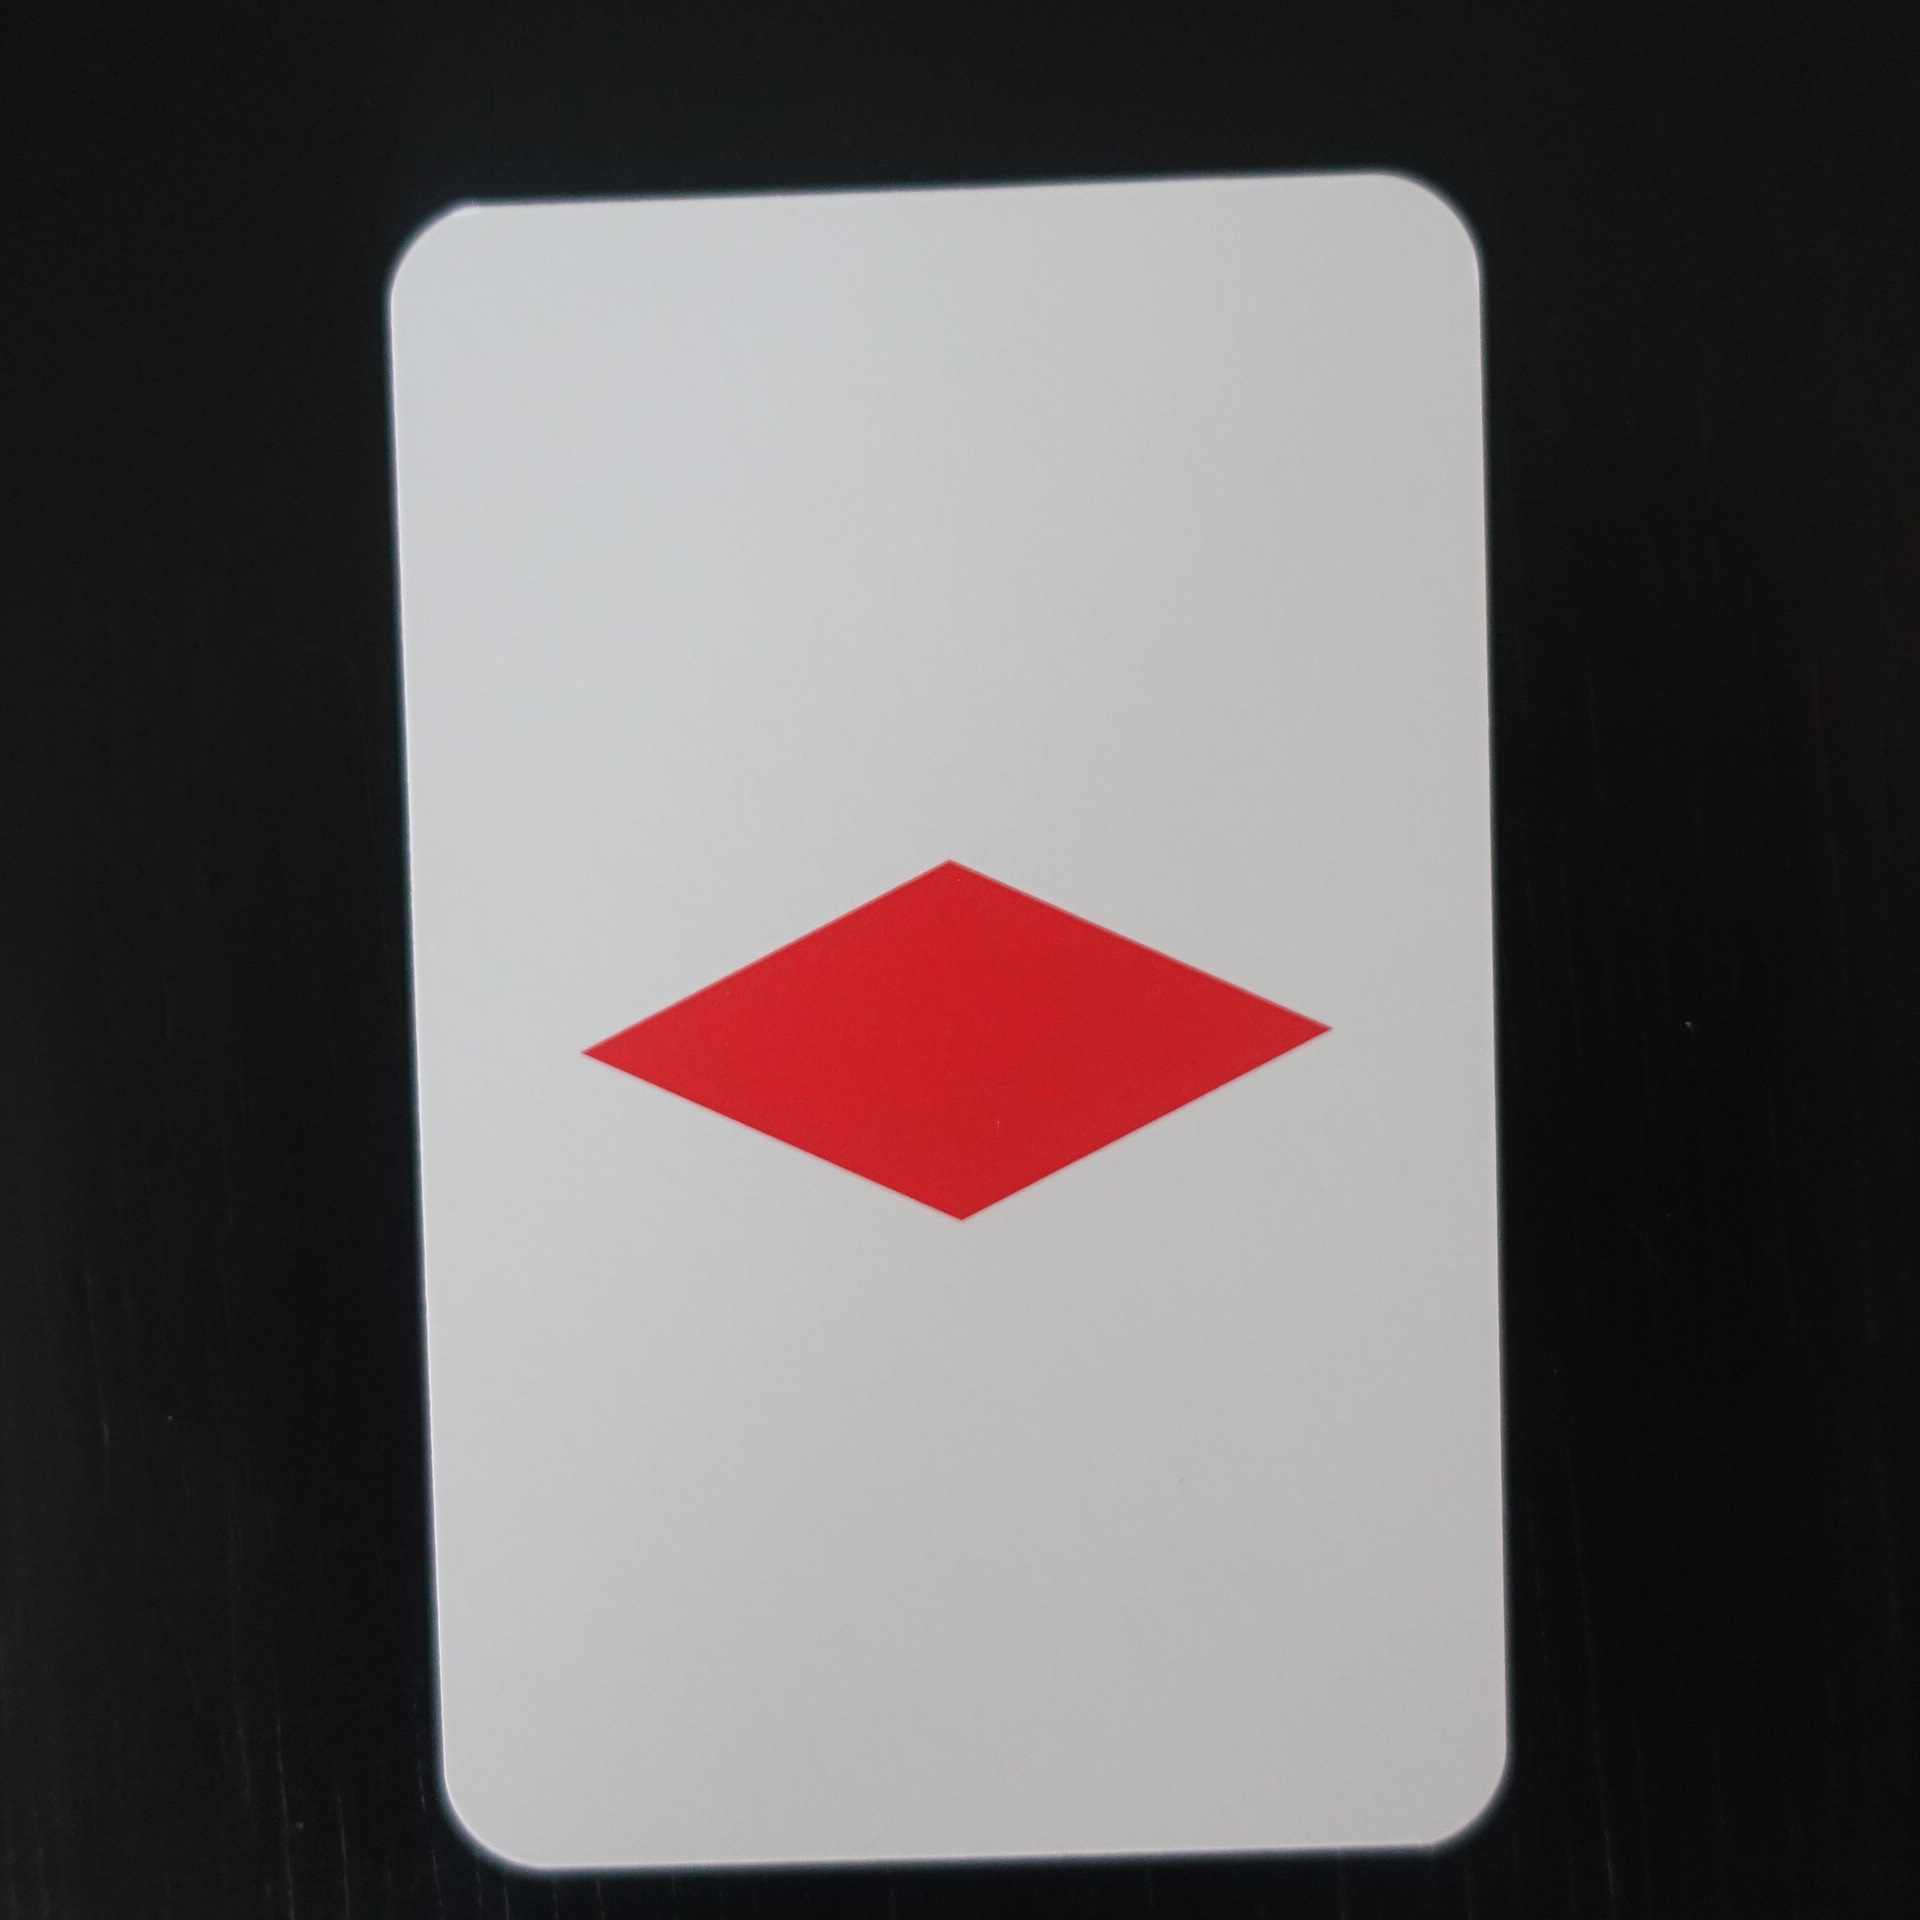c-2-f-d-r: (362, 174, 1530, 1885)
